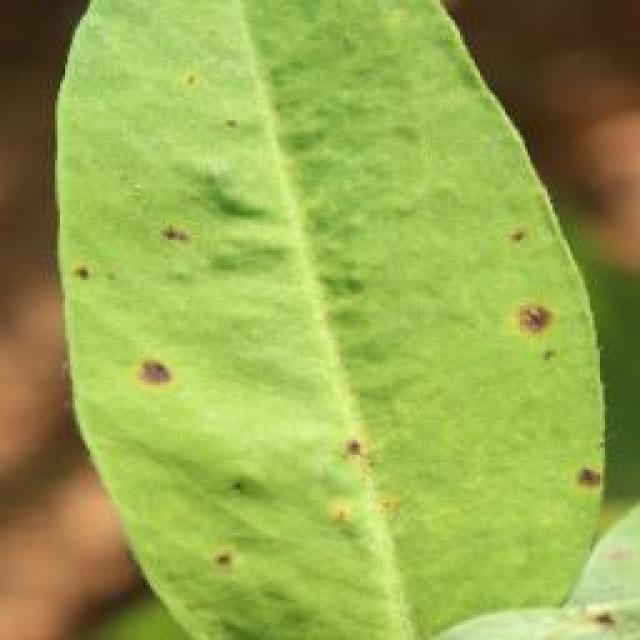Sigatoka: (334, 422, 408, 519), (101, 319, 183, 405), (150, 197, 214, 286), (516, 287, 574, 370), (488, 194, 546, 276), (544, 435, 614, 500), (64, 247, 120, 319), (218, 432, 263, 508), (214, 528, 270, 588), (313, 502, 380, 550)
